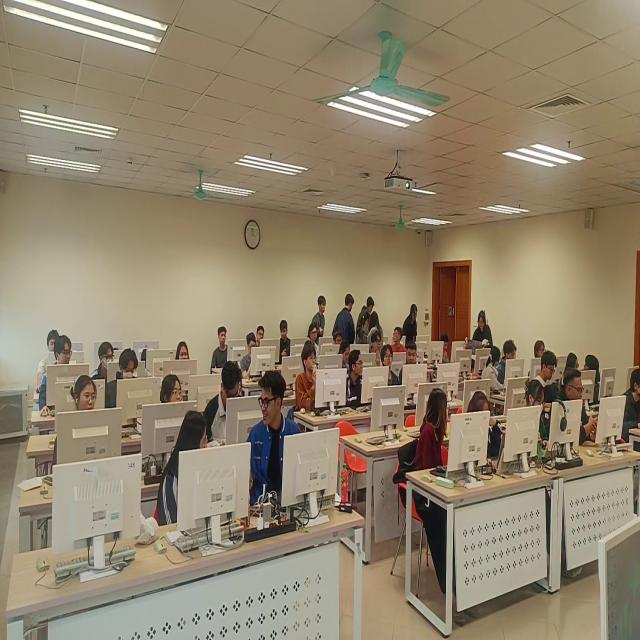raise_head: (53, 380, 106, 473), (157, 376, 188, 433), (299, 348, 325, 415), (212, 326, 240, 373), (380, 348, 400, 403), (402, 343, 424, 387), (174, 341, 196, 376), (531, 338, 549, 366), (371, 330, 385, 358), (310, 325, 323, 353)
stand: (333, 293, 356, 359), (472, 310, 494, 369), (310, 293, 327, 355), (401, 303, 419, 355)
using_computer: (556, 373, 608, 450), (520, 378, 565, 463), (467, 393, 510, 476), (204, 366, 246, 445), (107, 350, 142, 417), (535, 356, 568, 404), (243, 332, 271, 387), (619, 369, 640, 442), (93, 342, 117, 399), (499, 340, 525, 388), (439, 333, 459, 372), (563, 353, 584, 388), (339, 344, 356, 372)
